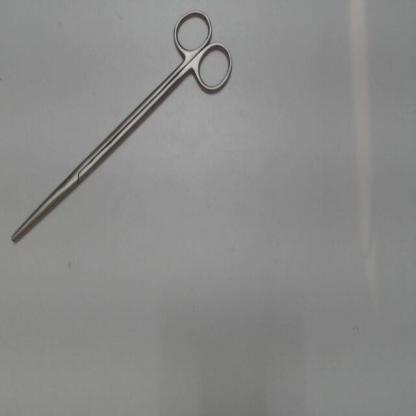9 Metzenbaum Scissors: (9, 6, 243, 247)
